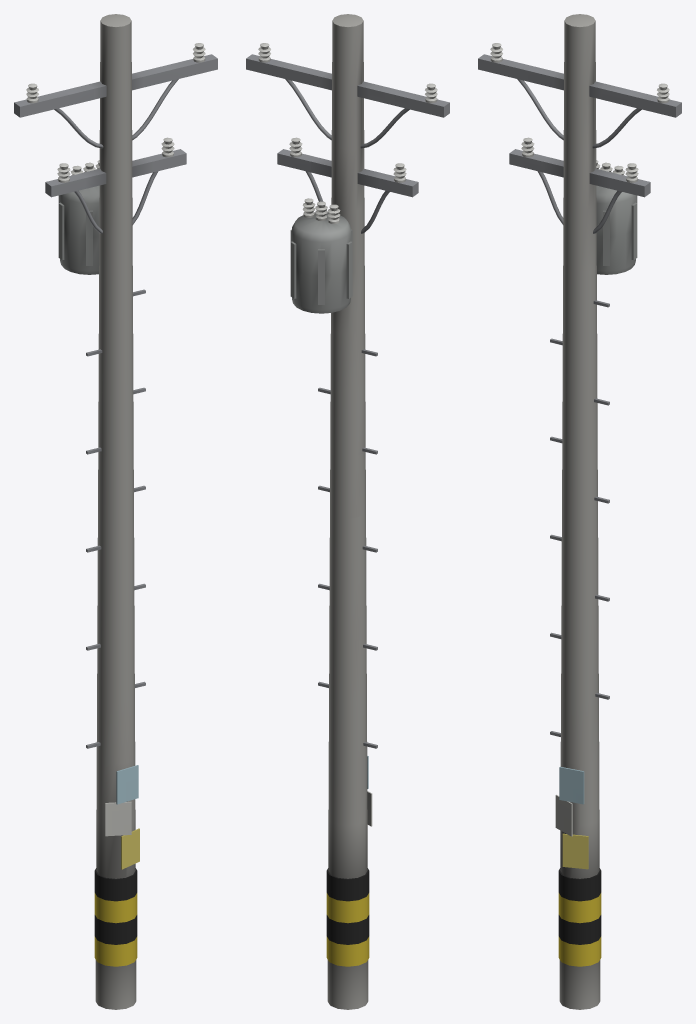
The model's file is st_pole.glb.
3 views of the same model, side by side, from view 1: azimuth 30°, elevation 25°; view 2: azimuth 150°, elevation 25°; view 3: azimuth 330°, elevation 25° (orthographic).
Parts seen in each view (by area): view 1: body; view 2: body; view 3: body.
Part boxes in pixels (<box>): body: <box>14,14,217,1009</box>; body: <box>246,14,449,1009</box>; body: <box>478,14,681,1009</box>.
Bounding box in the file's own units: 1.9 × 9.02 × 0.8978.
